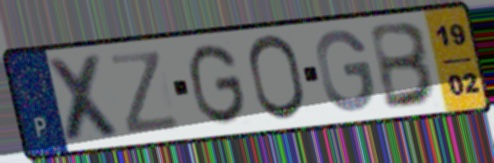B: (367, 19, 441, 113)
G: (313, 27, 378, 116), (187, 40, 250, 129)
O: (245, 32, 310, 124)
X: (43, 51, 128, 145)
Z: (106, 47, 185, 137)
